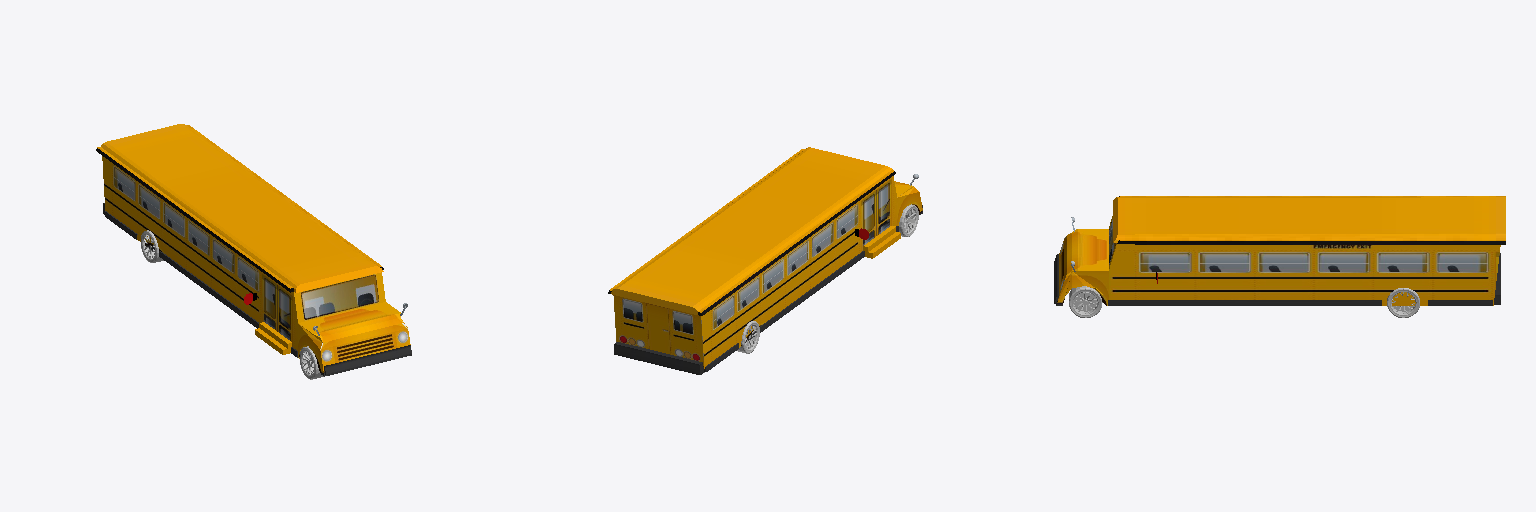
The picture shows the model from 3 angles: view 1: azimuth 30°, elevation 25°; view 2: azimuth 150°, elevation 25°; view 3: azimuth 270°, elevation 25°; orthographic projection.
Visible parts, largest first — view 1: polySurface44; view 2: polySurface44; view 3: polySurface44, polySurface46, polySurface45.
Part boxes in pixels (x1,y1,x2,y2): polySurface44: (96, 124, 411, 376); polySurface44: (608, 147, 922, 374); polySurface44: (1054, 196, 1505, 305); polySurface46: (1069, 286, 1102, 317); polySurface45: (1387, 288, 1419, 317).
Size of the model in its own units: 12.97 by 8.89 by 44.77.
Materials: 3 (2 with a texture image).